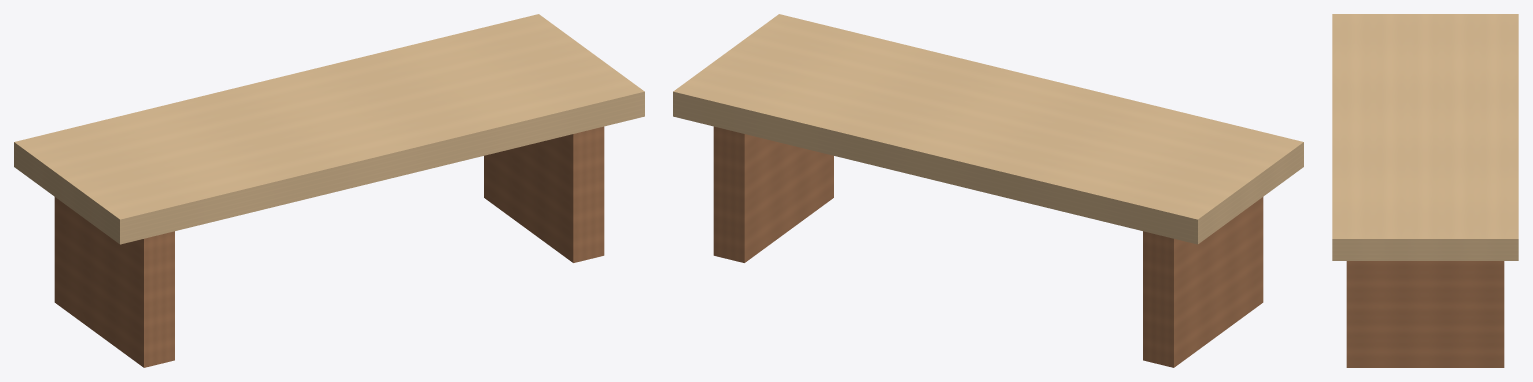
File: atlas100-desertdeco-util03.lod2.glb
3 renders of one model, left to right at view 1: azimuth 30°, elevation 25°; view 2: azimuth 150°, elevation 25°; view 3: azimuth 270°, elevation 25°, orthographic. The views are drawn at different scales.
Parts seen in each view (by area): view 1: atlas100-desertdeco-util03:part-002, atlas100-desertdeco-util03:part-000, atlas100-desertdeco-util03:part-001; view 2: atlas100-desertdeco-util03:part-002, atlas100-desertdeco-util03:part-000, atlas100-desertdeco-util03:part-001; view 3: atlas100-desertdeco-util03:part-002, atlas100-desertdeco-util03:part-001.
Boxes of the visible parts, bbox=[...] form: atlas100-desertdeco-util03:part-002: bbox=[14, 14, 644, 244]; atlas100-desertdeco-util03:part-000: bbox=[54, 197, 174, 367]; atlas100-desertdeco-util03:part-001: bbox=[484, 126, 604, 262]; atlas100-desertdeco-util03:part-002: bbox=[673, 14, 1303, 244]; atlas100-desertdeco-util03:part-000: bbox=[1143, 197, 1263, 367]; atlas100-desertdeco-util03:part-001: bbox=[713, 126, 833, 262]; atlas100-desertdeco-util03:part-002: bbox=[1332, 14, 1518, 260]; atlas100-desertdeco-util03:part-001: bbox=[1346, 261, 1504, 367].
Size of the model in its own units: 2.35 by 0.6949 by 0.8231.
2 materials, 2 textured.
